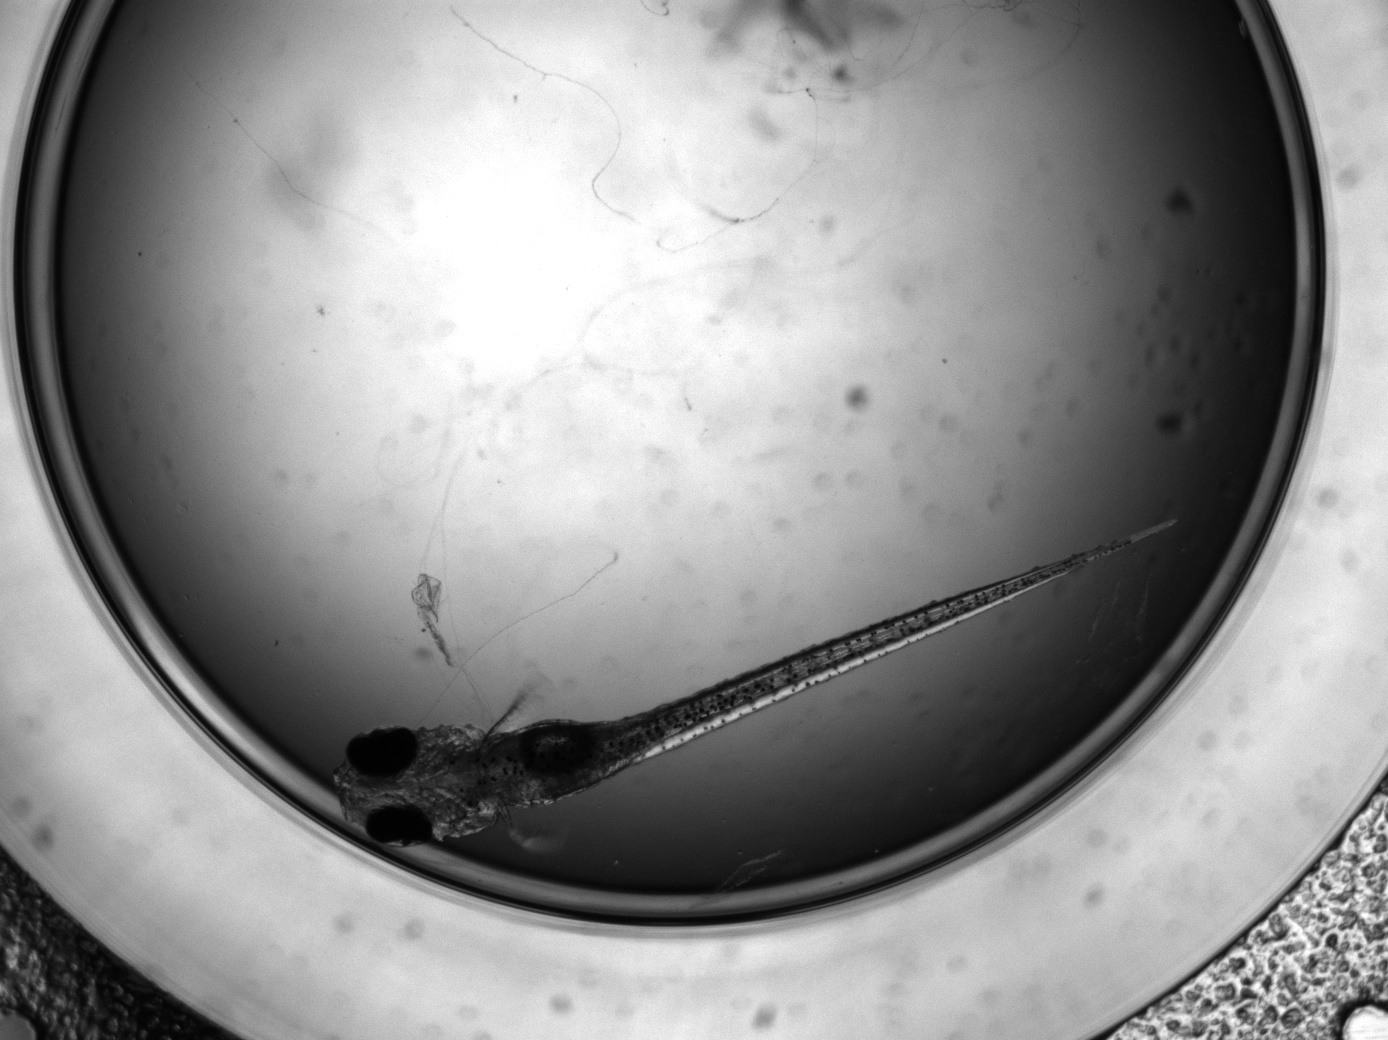debris: (405, 572, 463, 673)
embryo: (333, 515, 1181, 848)
eye: (344, 726, 419, 780), (364, 804, 435, 848)
yolksac: (481, 719, 632, 805)
